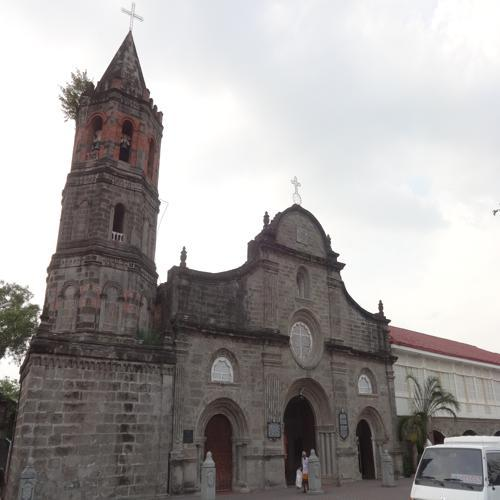Barasoain Church: (10, 4, 400, 492)
